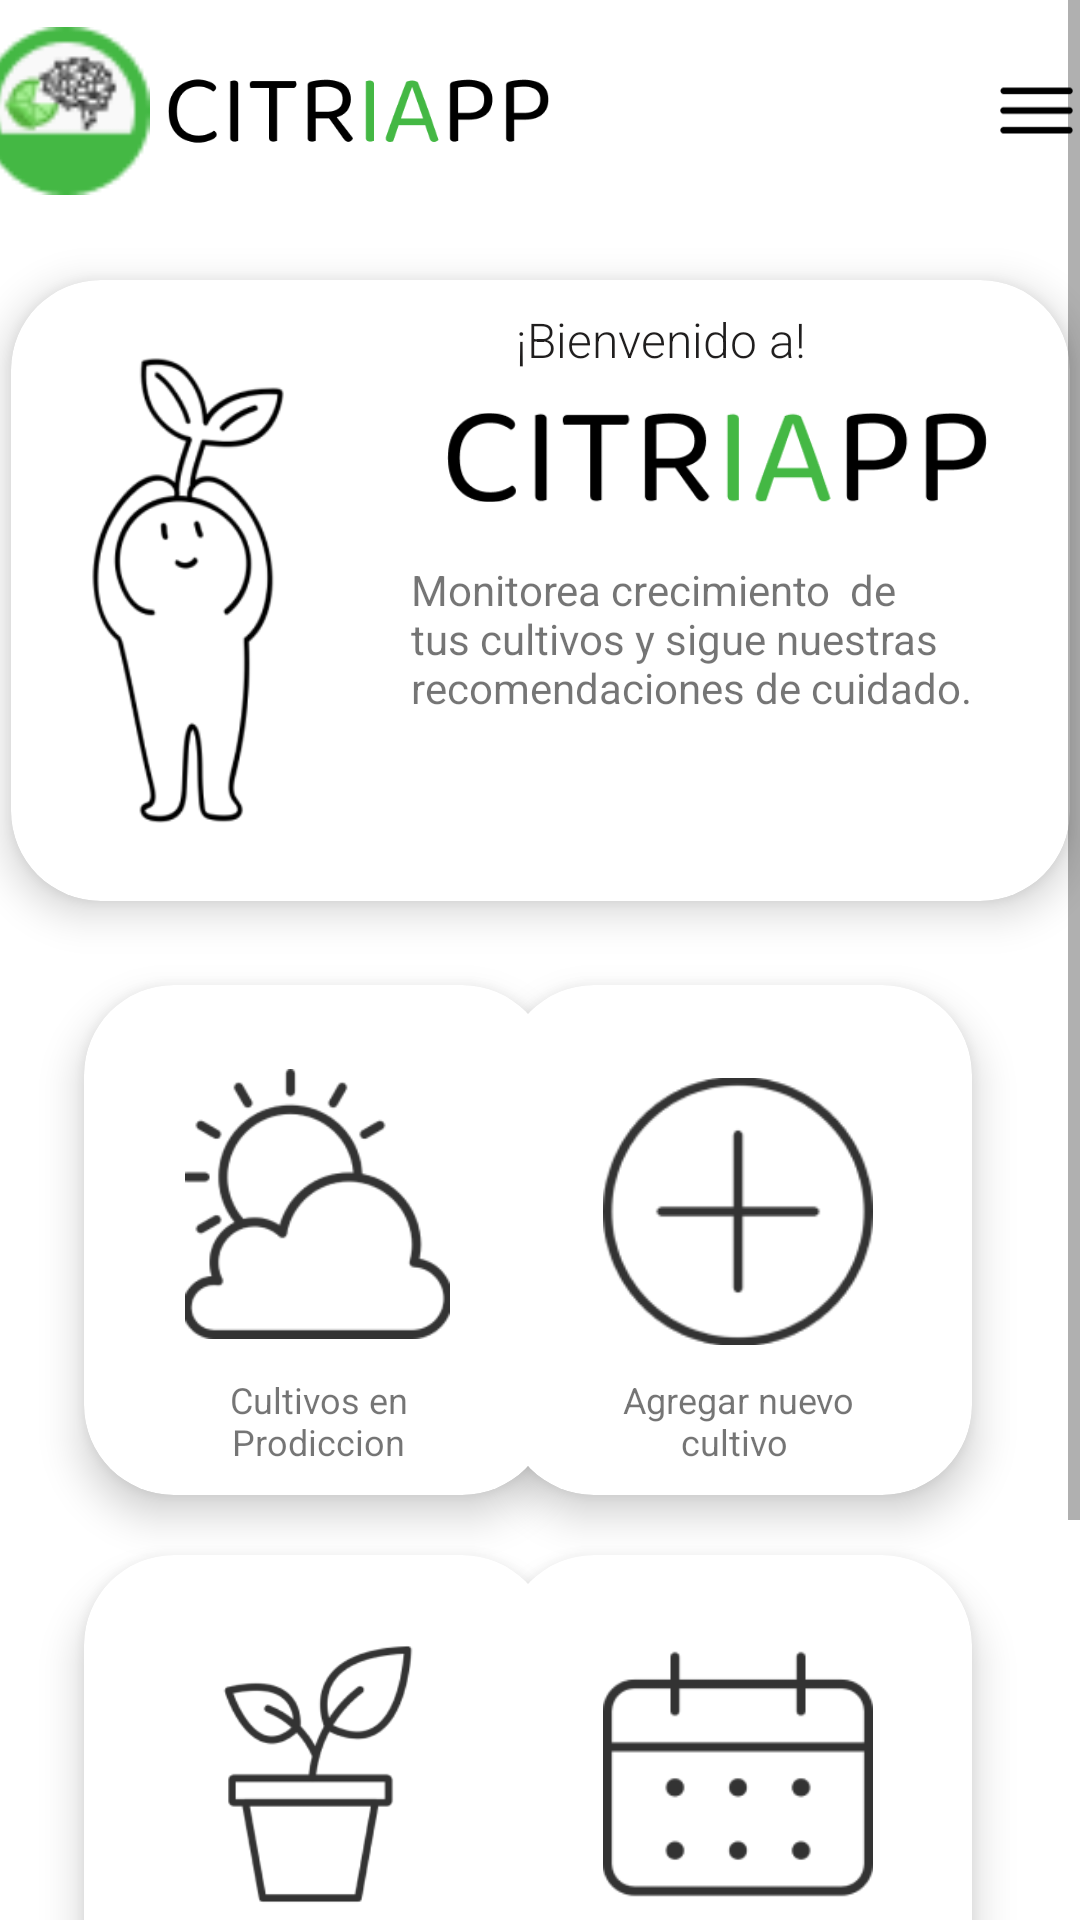

Icon click points for this 1080x1920 phone screenshot, format (x=x, y=y):
menu: (x=1040, y=110)
